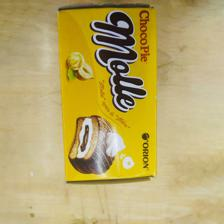Molle: (55, 3, 161, 183)
